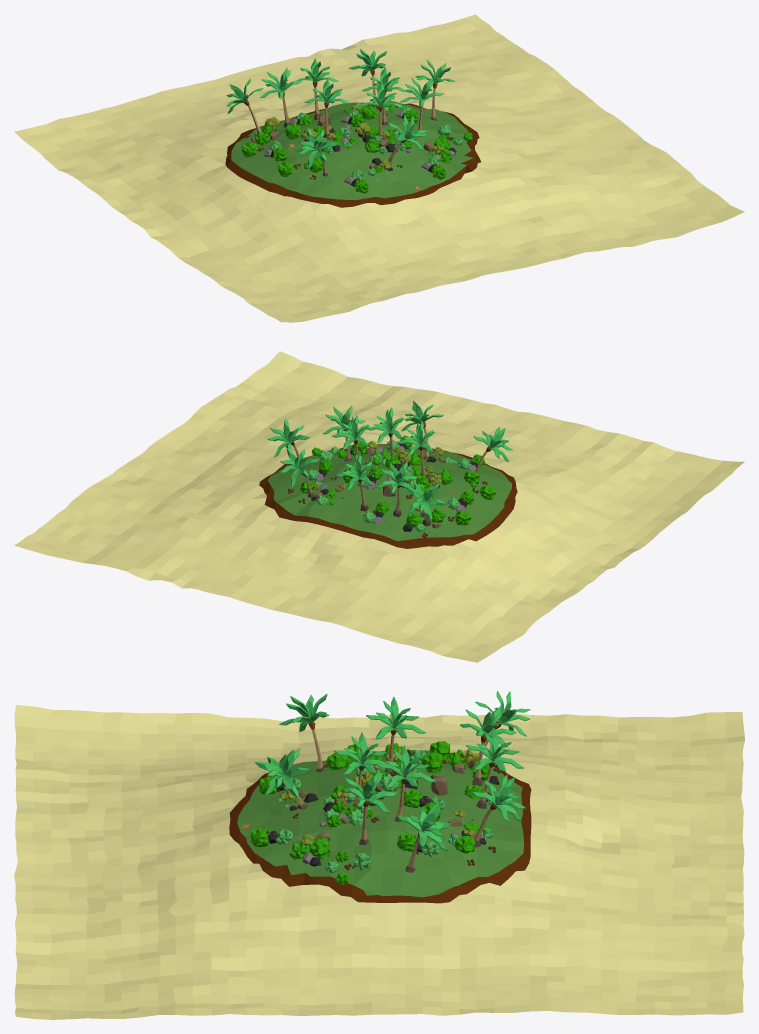
File: Isla.fbx
3 views of the same model, one above another, from view 1: azimuth 30°, elevation 25°; view 2: azimuth 150°, elevation 25°; view 3: azimuth 270°, elevation 25° (orthographic). The views are drawn at different scales.
Parts seen in each view (by area): view 1: Plane.001, Palmtree.001, Palmtree.005, Palmtree.006, Palmtree.003, Palmtree.004, Palmtree.010, Palmtree.009, Palmtree.002; view 2: Plane.001, Palmtree.005, Palmtree.000, Palmtree.002, Palmtree.009, Palmtree.006, Palmtree.001, Palmtree.010, Palmtree.007, Palmtree.008; view 3: Plane.001, Palmtree.007, Palmtree.003, Palmtree.002, Palmtree.009, Palmtree.008, Palmtree.006, Palmtree.004, Palmtree.010, Palmtree.001, Palmtree.005, Palmtree.000.
Boxes of the visible parts, x1,y1,x2,y2 form: Plane.001: [14, 14, 744, 322]; Palmtree.001: [295, 128, 339, 176]; Palmtree.005: [260, 67, 301, 127]; Palmtree.006: [304, 78, 350, 139]; Palmtree.003: [388, 114, 427, 164]; Palmtree.004: [400, 77, 443, 130]; Palmtree.010: [358, 82, 403, 139]; Palmtree.009: [295, 58, 338, 119]; Palmtree.002: [348, 48, 387, 108]; Plane.001: [14, 351, 744, 662]; Palmtree.005: [375, 461, 417, 517]; Palmtree.000: [407, 483, 445, 526]; Palmtree.002: [278, 448, 320, 497]; Palmtree.009: [335, 453, 372, 511]; Palmtree.006: [397, 421, 434, 477]; Palmtree.001: [473, 427, 512, 473]; Palmtree.010: [367, 407, 403, 456]; Palmtree.007: [267, 418, 309, 457]; Palmtree.008: [332, 415, 369, 456]; Plane.001: [14, 705, 744, 1019]; Palmtree.007: [396, 803, 451, 872]; Palmtree.003: [255, 748, 311, 809]; Palmtree.002: [471, 774, 525, 847]; Palmtree.009: [466, 729, 523, 808]; Palmtree.008: [376, 745, 436, 821]; Palmtree.006: [366, 697, 425, 776]; Palmtree.004: [341, 770, 397, 844]; Palmtree.010: [334, 732, 389, 809]; Palmtree.001: [279, 694, 329, 772]; Palmtree.005: [460, 706, 516, 785]; Palmtree.000: [470, 691, 530, 769].
Size of the model in its own units: 7671 by 1702 by 7670.
